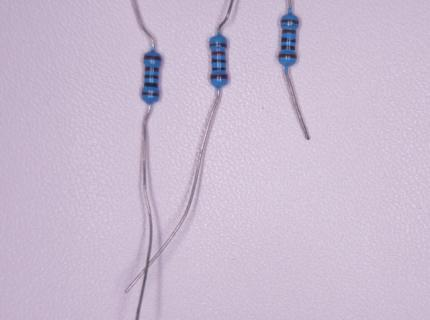Brown band: (145, 67, 159, 72), (282, 30, 296, 34)
